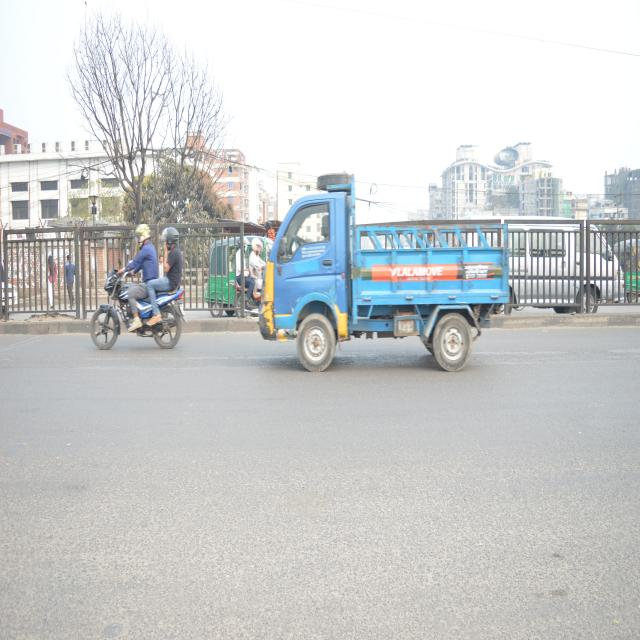motorbike: (86, 260, 194, 359)
pickup-van: (246, 151, 530, 388)
